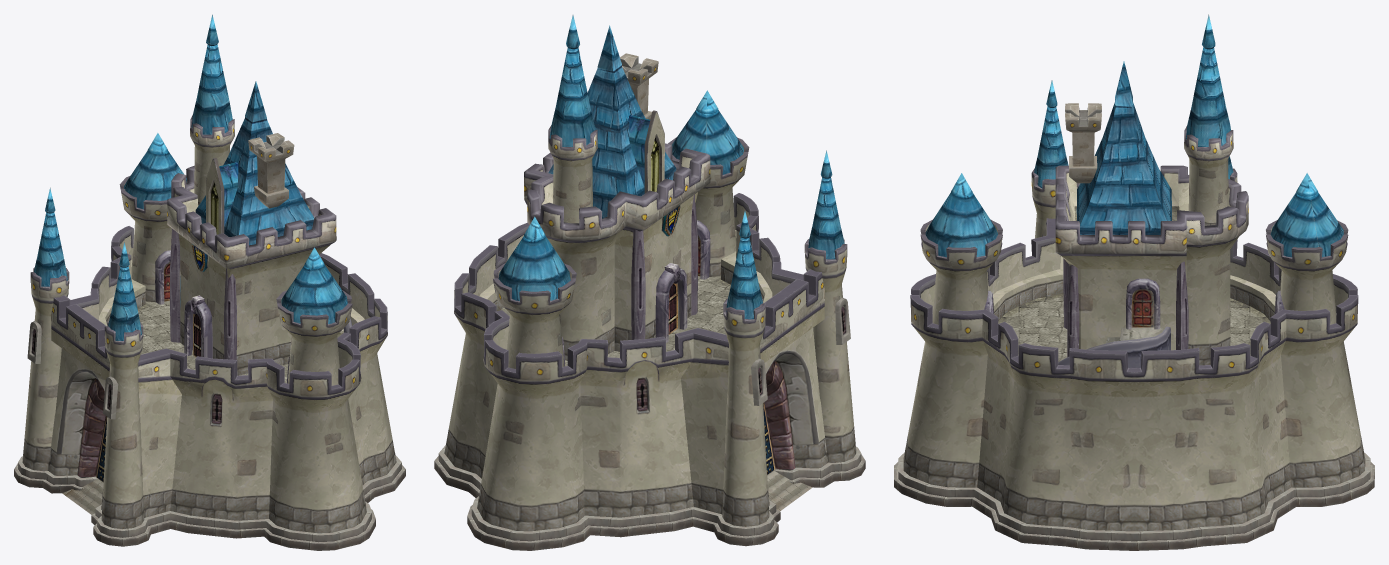
Rendered from chengbao.FBX.
3 renders of one model, left to right at view 1: azimuth 30°, elevation 25°; view 2: azimuth 150°, elevation 25°; view 3: azimuth 270°, elevation 25°, orthographic. The views are drawn at different scales.
Visible parts, largest first — view 1: Group53; view 2: Group53; view 3: Group53.
Boxes of the visible parts, left/top/right/bottom form: Group53: left=14, top=14, right=405, bottom=550; Group53: left=434, top=15, right=865, bottom=550; Group53: left=894, top=14, right=1374, bottom=550.
Bounding box in the file's own units: 853 × 1115 × 1033.
